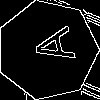A: (22, 25, 76, 68)
